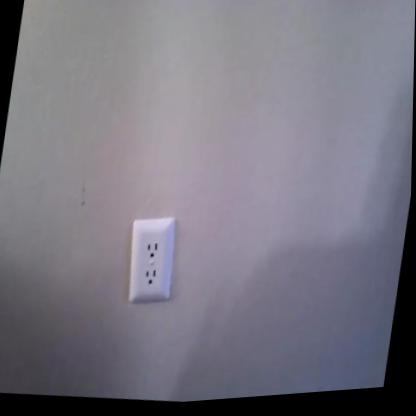OUTLET: (121, 213, 181, 305)
